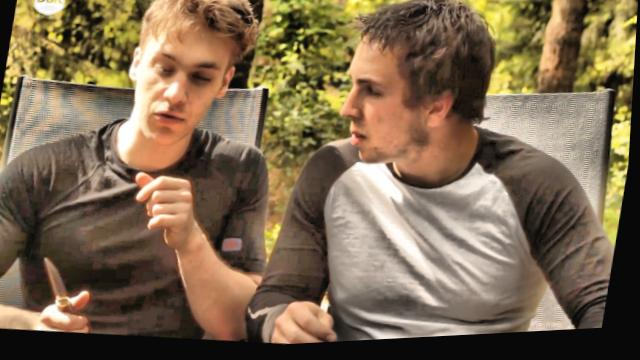knife: (27, 248, 104, 336)
